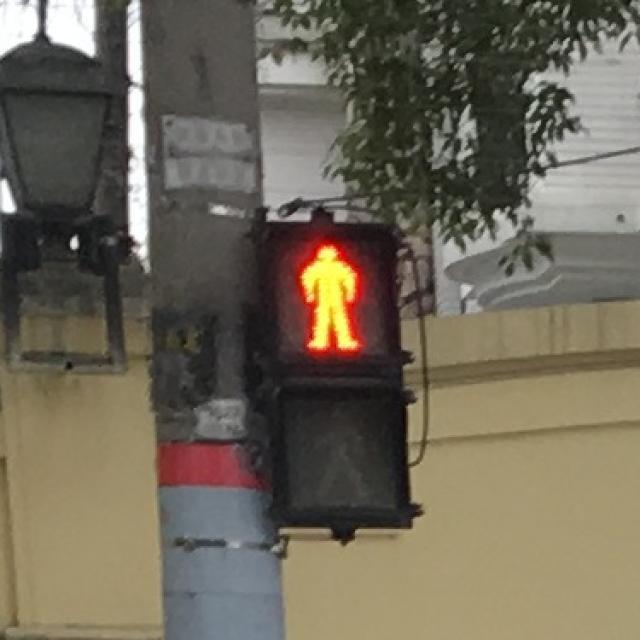red-crossing: (273, 235, 384, 358)
